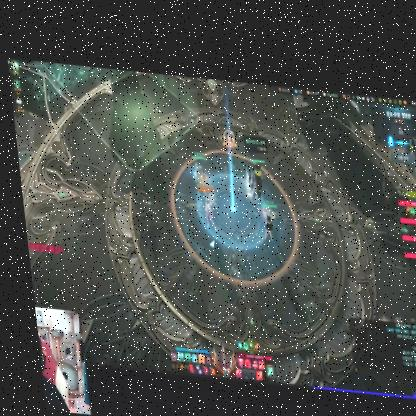streamer: (28, 325, 61, 411)
